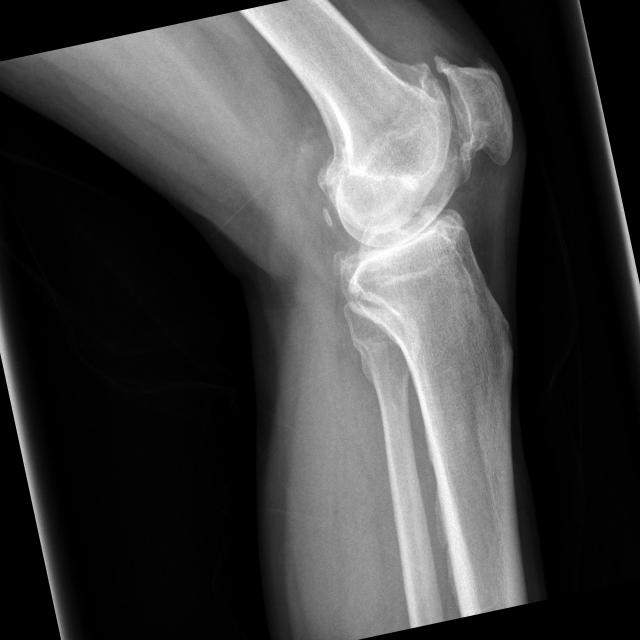Knee: (293, 44, 553, 331)
